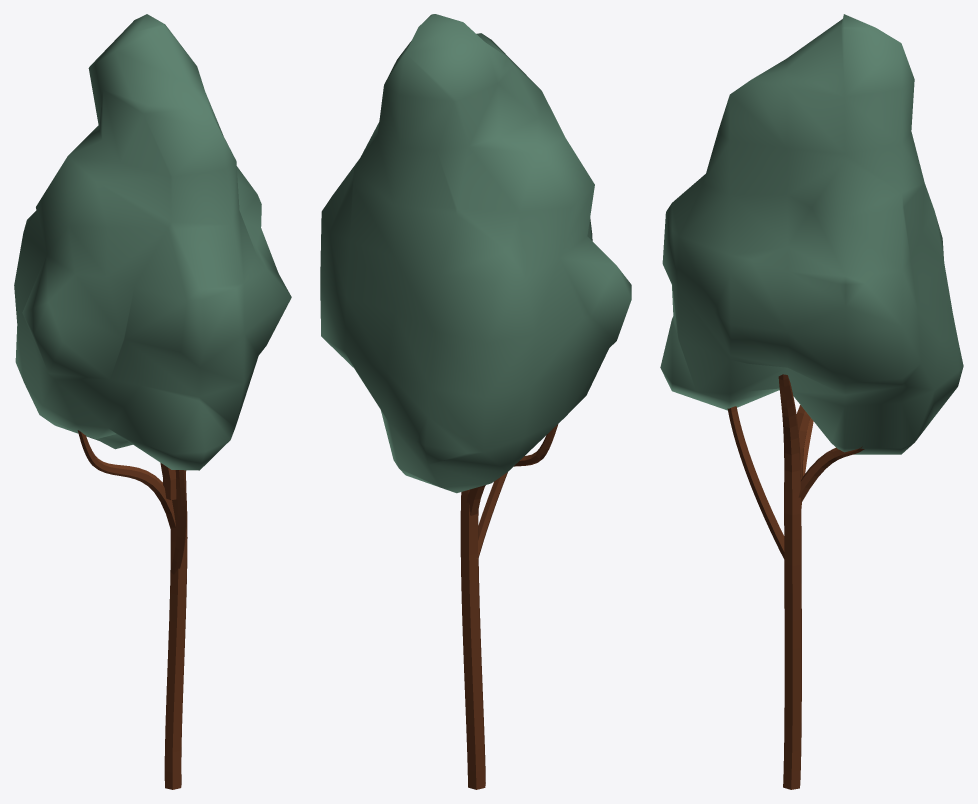
File: arbre4_v1.fbx
3 renders of one model, left to right at view 1: azimuth 30°, elevation 25°; view 2: azimuth 150°, elevation 25°; view 3: azimuth 270°, elevation 25°, orthographic. The views are drawn at different scales.
Parts seen in each view (by area): view 1: Mball, BezierCurve; view 2: Mball, BezierCurve; view 3: Mball, BezierCurve.
Part boxes in pixels (box(x1,y1,x2,y2)): Mball: box(14, 14, 291, 470); BezierCurve: box(77, 430, 187, 789); Mball: box(320, 14, 631, 493); BezierCurve: box(460, 424, 558, 789); Mball: box(660, 14, 963, 454); BezierCurve: box(727, 374, 864, 789).
Size of the model in its own units: 3366 by 9367 by 3356.
